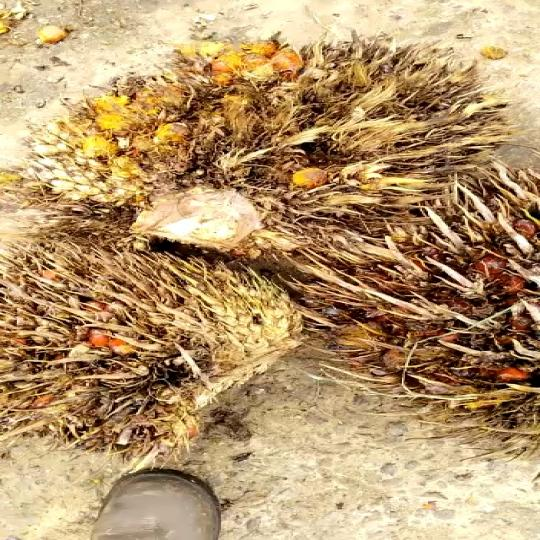terlalu masak: (50, 40, 525, 263), (0, 228, 319, 471)
